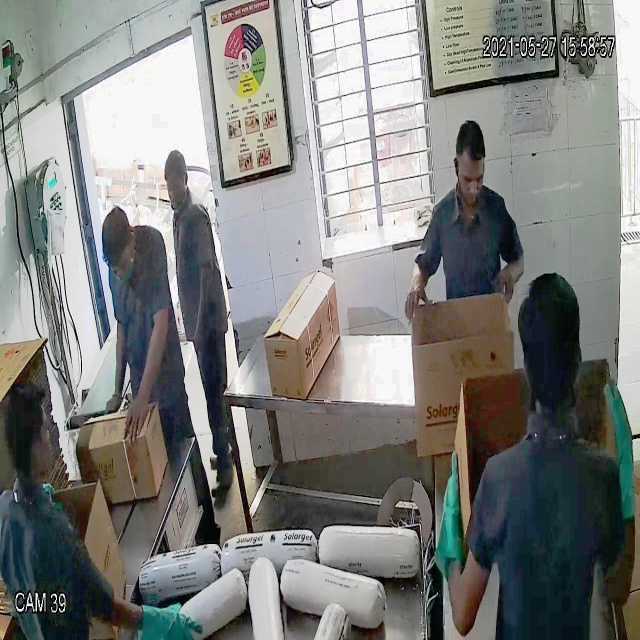Sin_gafas: (451, 156, 492, 193)
